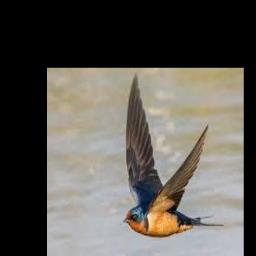Swallow: (122, 73, 224, 237)
